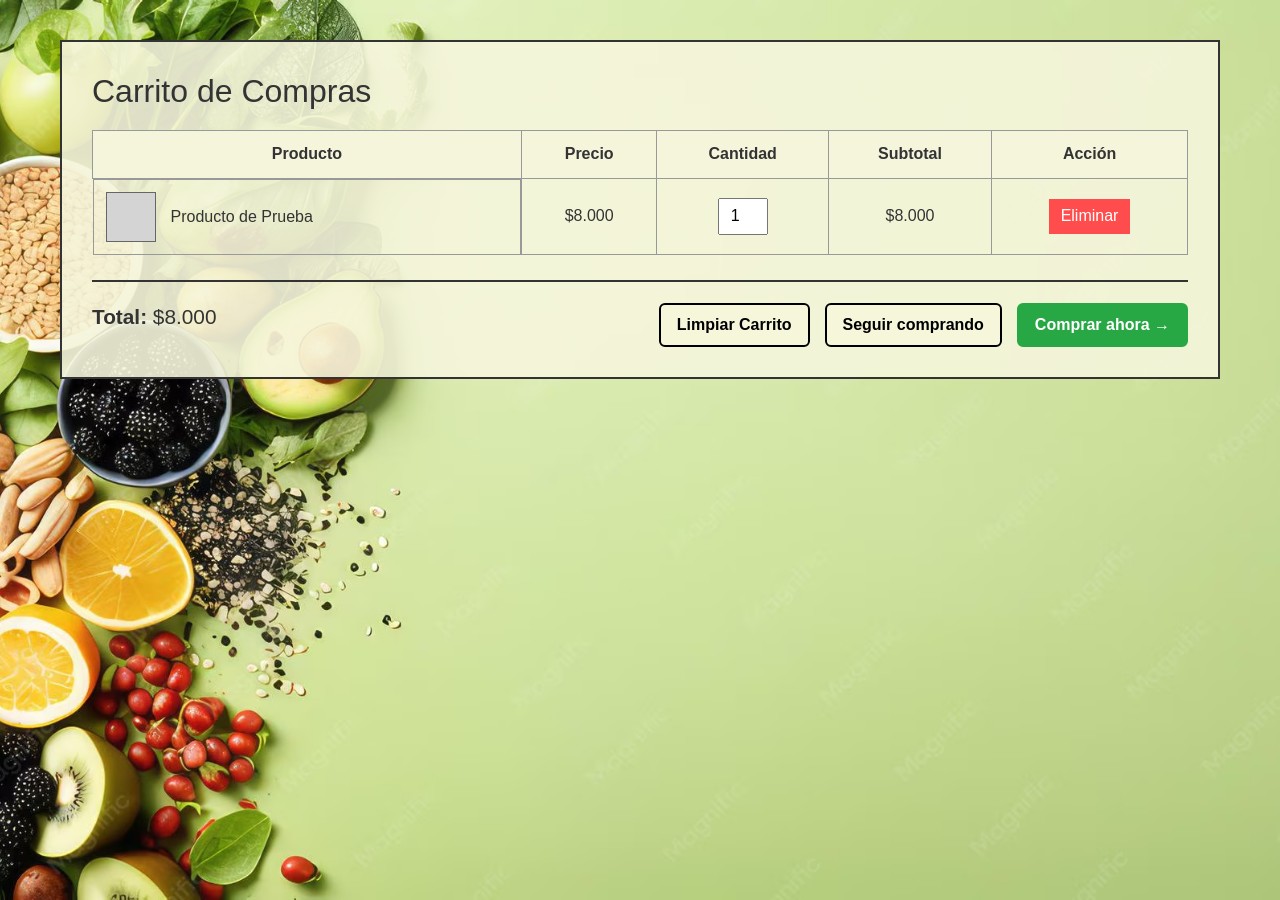
Test: Carrito › al hacer clic en "Eliminar" quita el producto de la tabla
Step 1. Click the button "Eliminar" → [1090, 216], box [1049,199,1130,234]
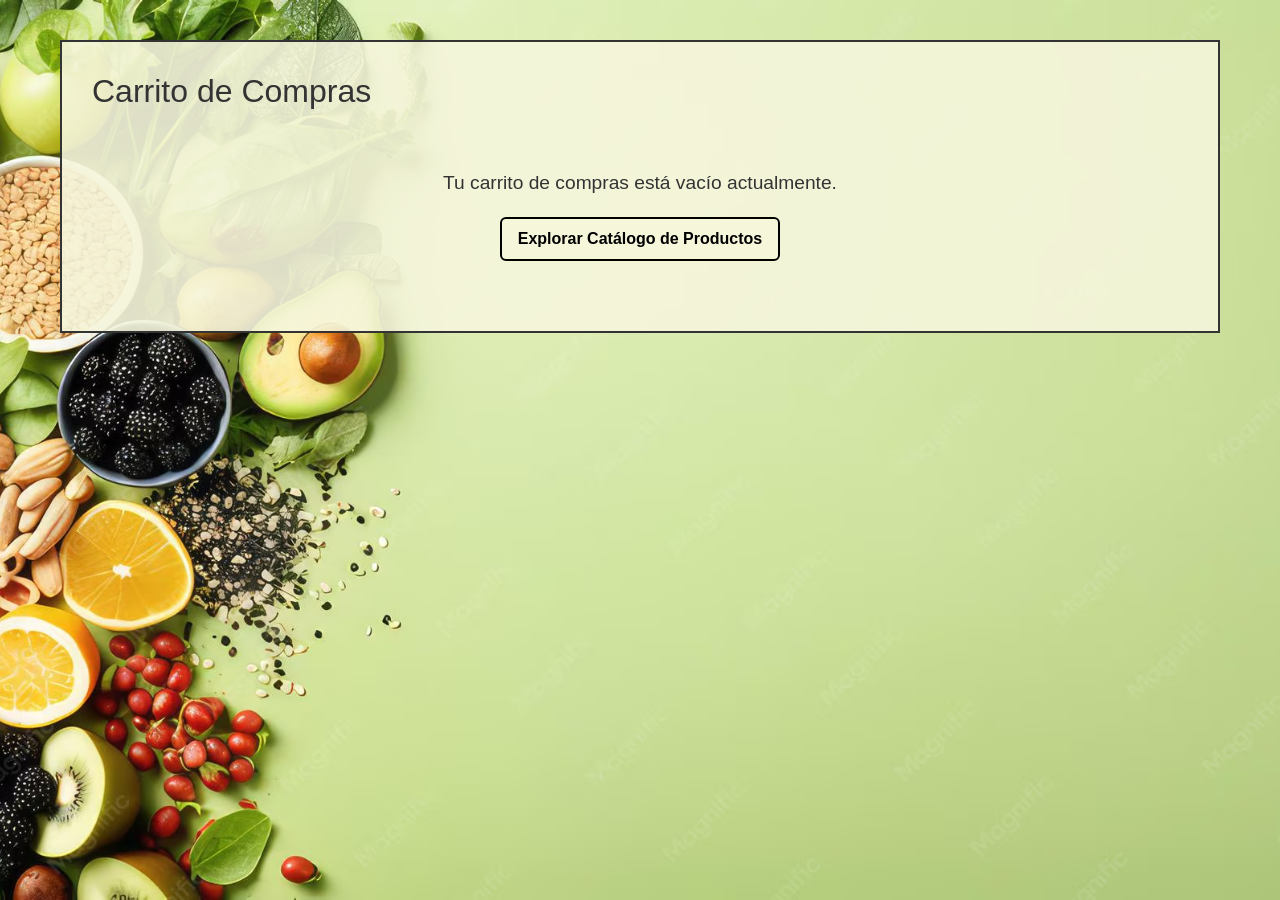
Result: the text "Tu carrito de compras está vacío actualmente." is shown at [443,172,837,193]
